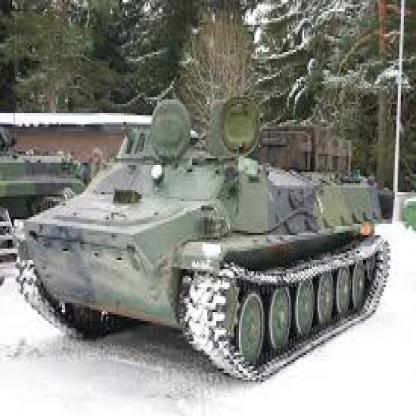MIL_IFV: (16, 100, 397, 382)
